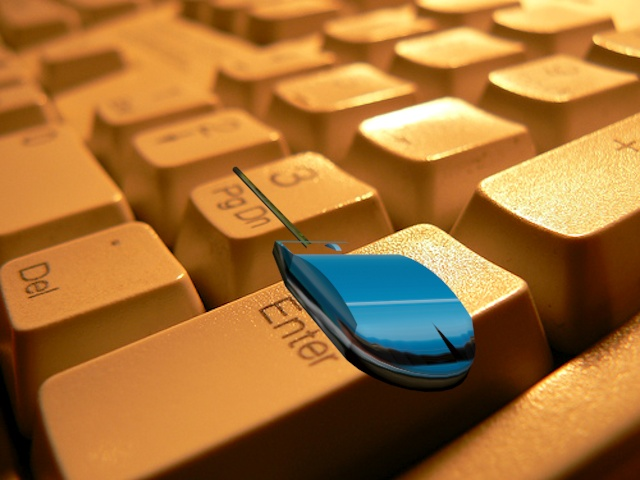mouse: (225, 160, 481, 400)
